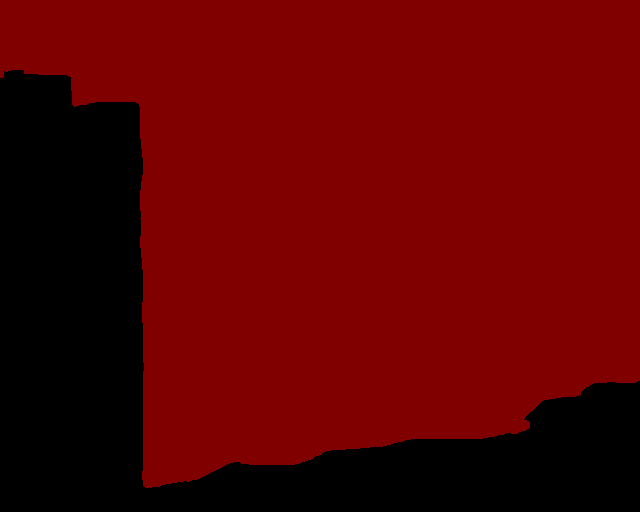Sky: (1, 1, 639, 487)
